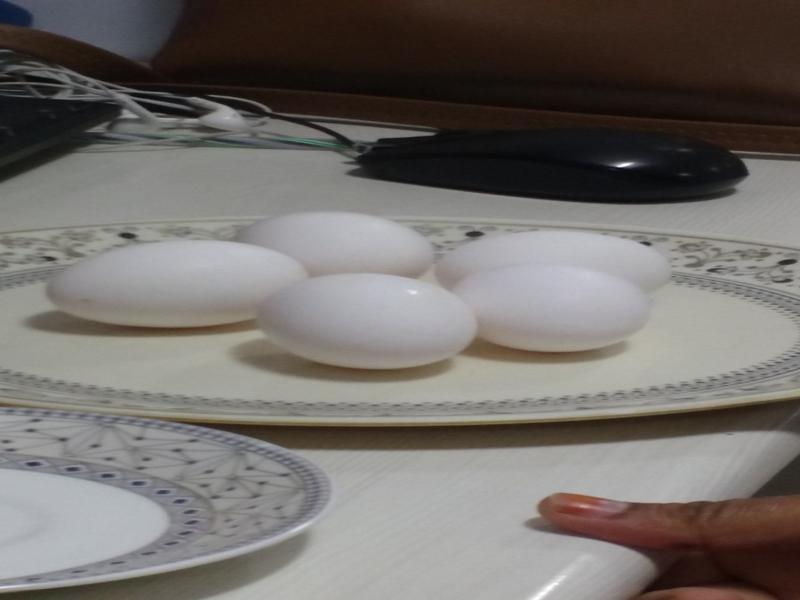egg: (258, 261, 475, 361)
